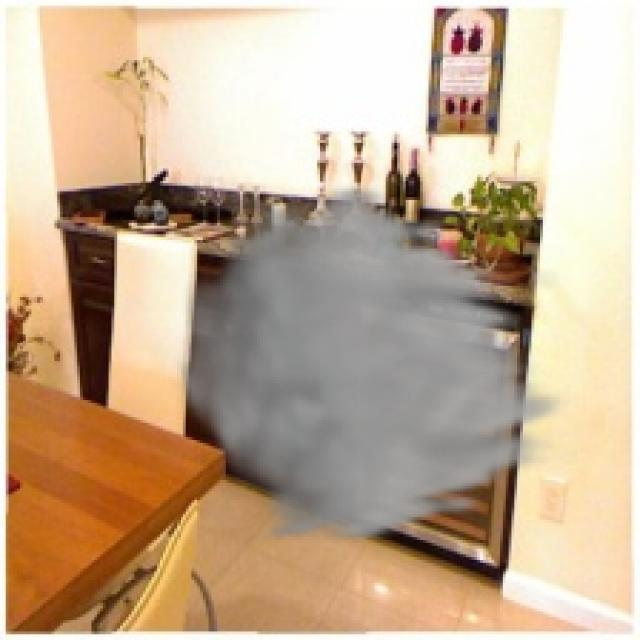smoke: (169, 180, 577, 546)
